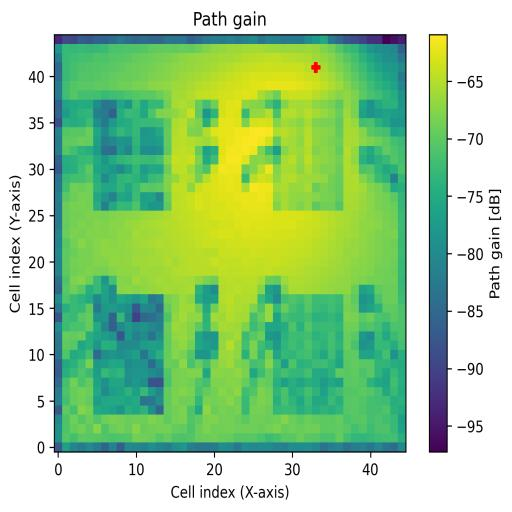Concrete: (274, 101, 343, 211)
Glass: (93, 100, 165, 211)
Metal: (274, 295, 345, 414)
Wood: (93, 295, 164, 415)
